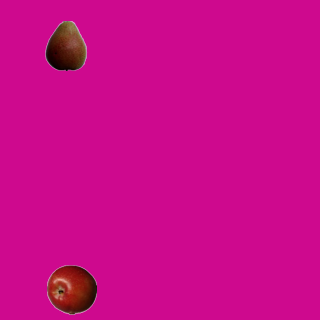Apple Braeburn: (46, 264, 96, 314)
Pear Forelle: (40, 20, 90, 70)
